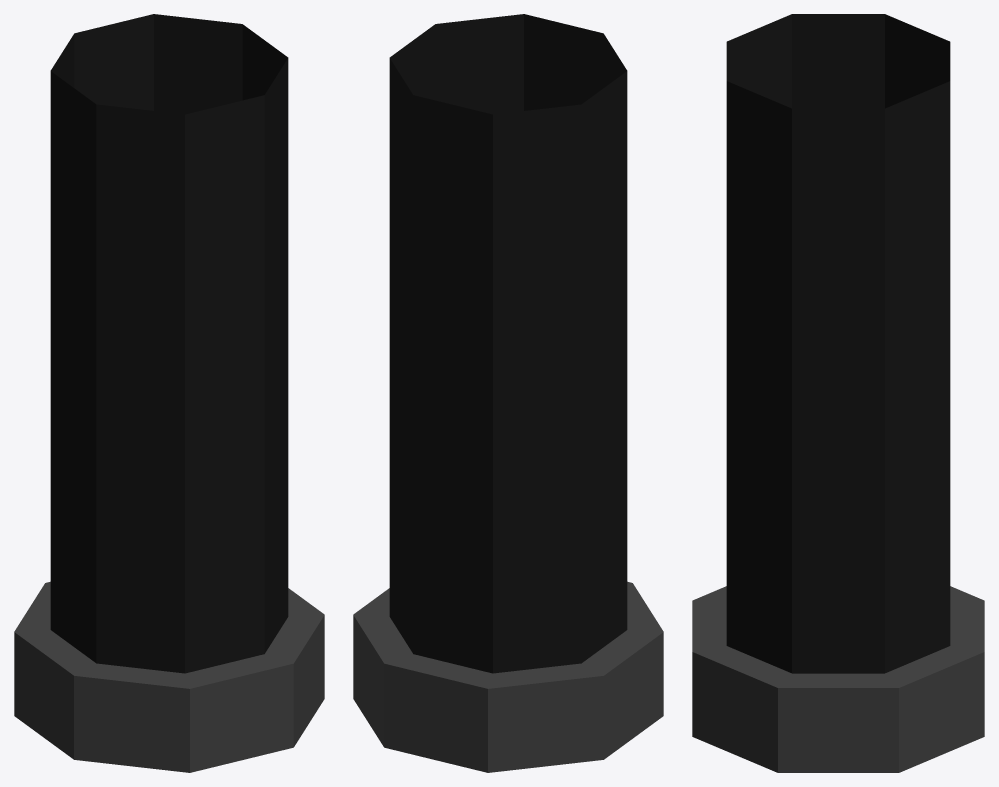
The model's file is Itr_Officechair_Neck_01.FBX.
3 views of the same model, side by side, from view 1: azimuth 30°, elevation 25°; view 2: azimuth 150°, elevation 25°; view 3: azimuth 270°, elevation 25° (orthographic).
Visible parts, largest first — view 1: Itr_Officechair_Neck_01; view 2: Itr_Officechair_Neck_01; view 3: Itr_Officechair_Neck_01.
Part boxes in pixels (x1,y1,x2,y2): Itr_Officechair_Neck_01: [14, 14, 324, 772]; Itr_Officechair_Neck_01: [353, 14, 663, 772]; Itr_Officechair_Neck_01: [692, 14, 984, 772].
Size of the model in its own units: 5.44 by 13.34 by 5.44.
